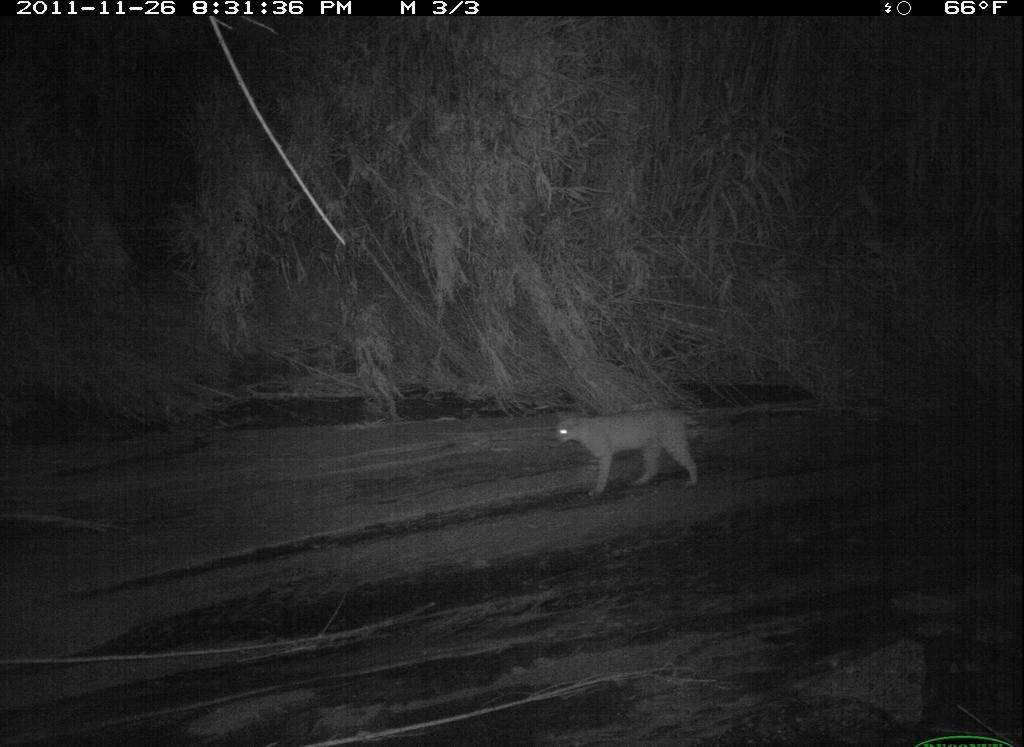bobcat: (543, 405, 708, 507)
